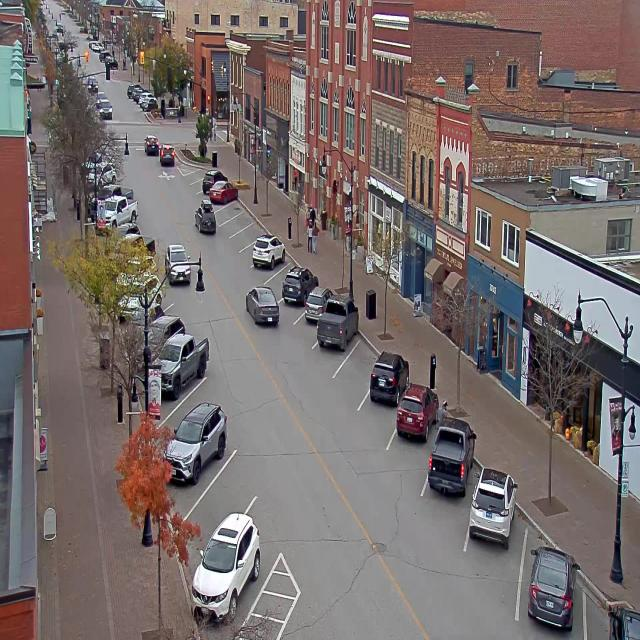available: (202, 440, 264, 515), (344, 331, 379, 386), (176, 370, 223, 410), (266, 262, 290, 296), (242, 218, 261, 243), (234, 207, 253, 231), (188, 173, 203, 196), (225, 197, 242, 216), (188, 166, 208, 181)
occupied: (192, 511, 260, 624), (164, 400, 228, 484), (526, 544, 578, 630), (468, 467, 517, 548), (151, 331, 210, 398), (427, 416, 476, 496), (394, 383, 434, 449), (591, 586, 639, 640), (316, 296, 358, 352), (368, 350, 409, 406), (282, 264, 318, 305), (252, 232, 285, 269), (209, 179, 238, 204), (304, 288, 323, 324), (200, 170, 220, 192)
